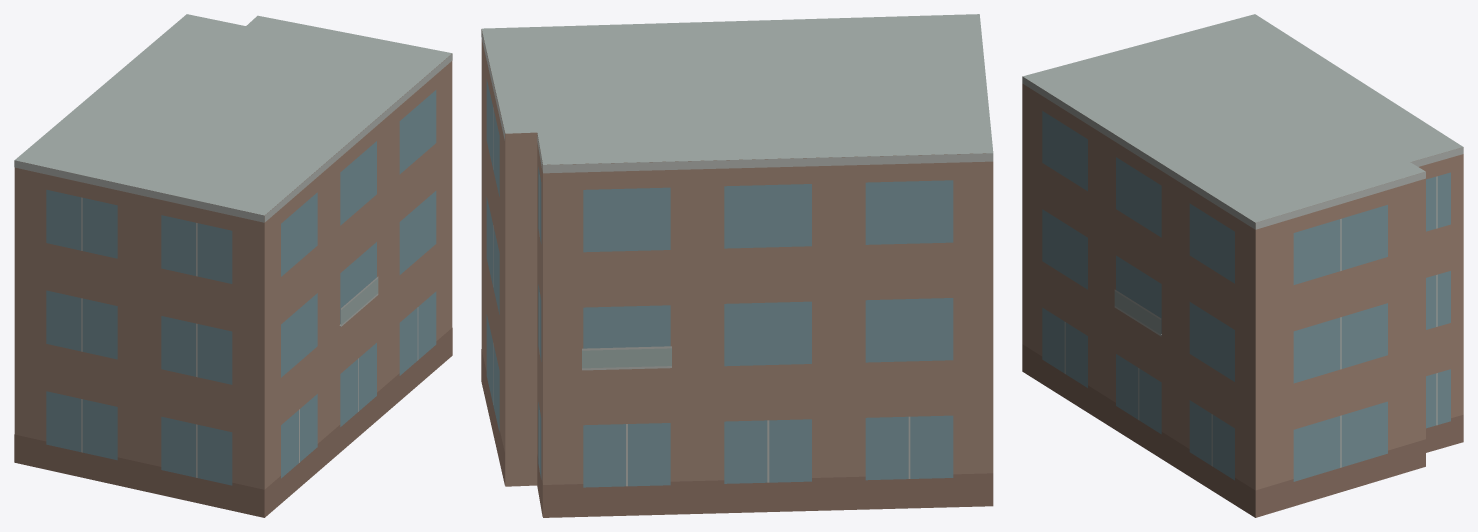
The model's file is survey-upis-32944464.glb.
3 views of the same model, side by side, from view 1: azimuth 30°, elevation 25°; view 2: azimuth 150°, elevation 25°; view 3: azimuth 270°, elevation 25° (orthographic). The views are drawn at different scales.
Parts seen in each view (by area): view 1: survey-upis-32944464.tmp; view 2: survey-upis-32944464.tmp; view 3: survey-upis-32944464.tmp.
Part boxes in pixels (<box>): survey-upis-32944464.tmp: <box>14,14,452,517</box>; survey-upis-32944464.tmp: <box>481,14,993,517</box>; survey-upis-32944464.tmp: <box>1022,14,1463,517</box>.
Bounding box in the file's own units: 15.48 × 10.2 × 13.82.
